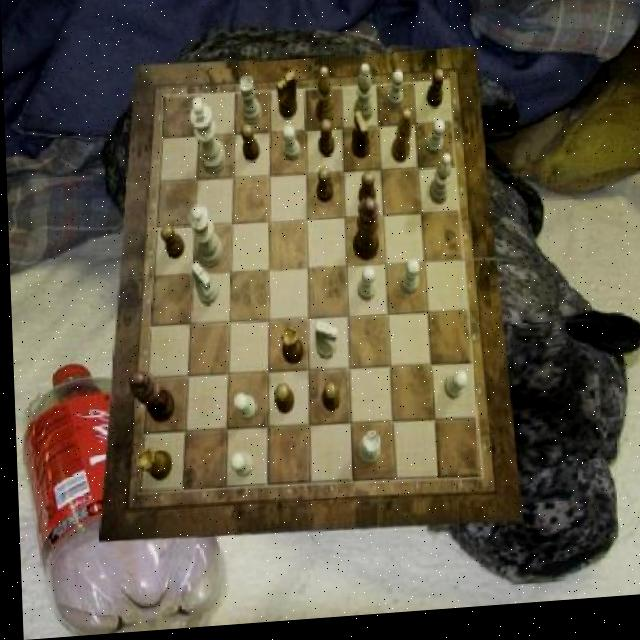bishop: (388, 115, 412, 170), (313, 70, 333, 129)
black-bishop: (125, 370, 171, 427)
black-king: (275, 75, 297, 124), (347, 116, 368, 165)
black-knight: (159, 225, 183, 261), (423, 76, 444, 116), (239, 127, 257, 166), (356, 177, 375, 213), (313, 171, 331, 208), (316, 124, 333, 163), (272, 387, 291, 419), (319, 386, 337, 418)
black-pawn: (348, 203, 378, 269)
black-queen: (133, 450, 168, 486), (276, 331, 300, 371)
black-rook: (426, 159, 451, 211), (351, 69, 372, 129)
white-bishop: (188, 98, 226, 178)
white-king: (188, 263, 215, 310), (310, 324, 334, 364)
white-knight: (384, 75, 404, 116), (396, 266, 417, 301), (423, 127, 444, 162), (440, 378, 465, 407), (354, 271, 374, 307), (229, 397, 253, 426), (226, 454, 250, 481), (281, 131, 299, 166)
white-pawn: (186, 206, 221, 272)
white-queen: (237, 79, 260, 129), (353, 436, 377, 471)
